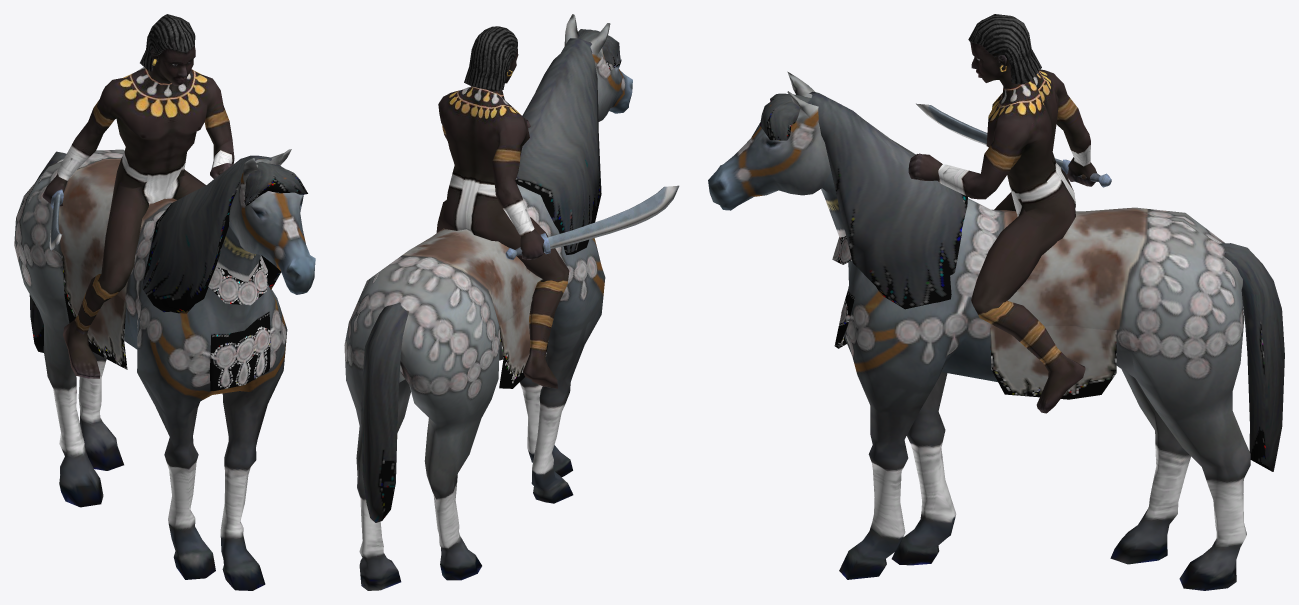
File: 215-mercenarycavalry.glb
3 renders of one model, left to right at view 1: azimuth 30°, elevation 25°; view 2: azimuth 150°, elevation 25°; view 3: azimuth 270°, elevation 25°, orthographic. The views are drawn at different scales.
Bounding box in the file's own units: 1.33 × 2.85 × 2.69.
3 materials, 3 textured.
